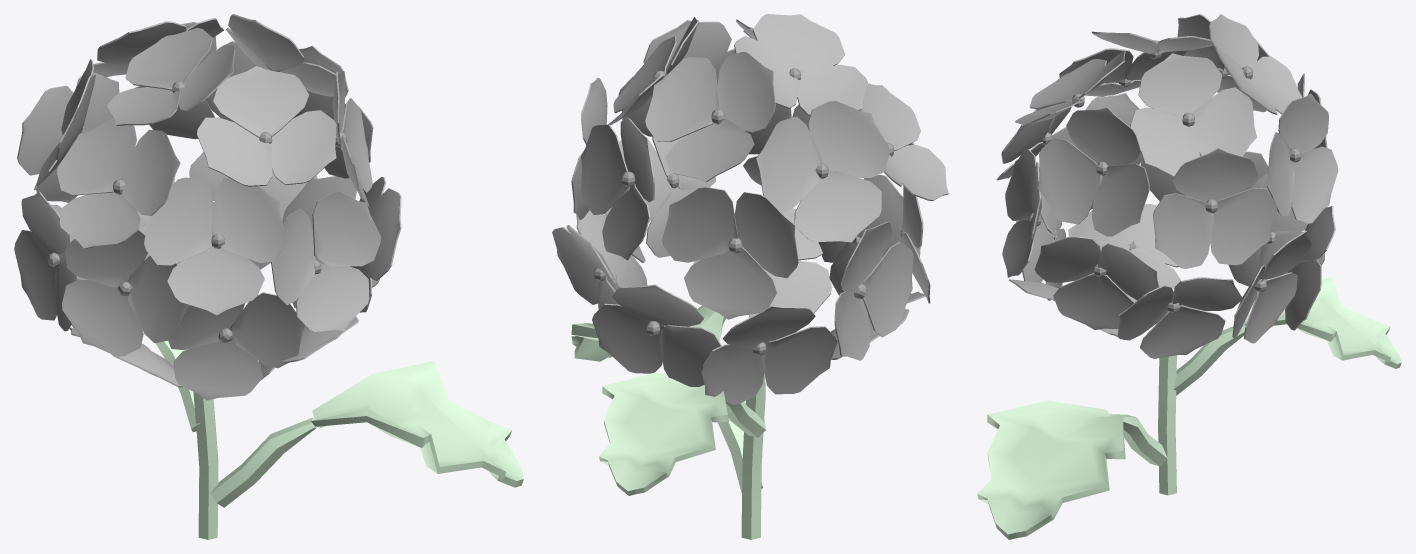
Rendered from flower_blue_v01.fbx.
3 renders of one model, left to right at view 1: azimuth 30°, elevation 25°; view 2: azimuth 150°, elevation 25°; view 3: azimuth 270°, elevation 25°, orthographic. The views are drawn at different scales.
Parts seen in each view (by area): view 1: petals_grp_petal_geo, stem_grp1_stem_geo, stempel_grp_stempel_geo; view 2: petals_grp_petal_geo, stem_grp1_stem_geo, stempel_grp_stempel_geo; view 3: petals_grp_petal_geo, stem_grp1_stem_geo, stempel_grp_stempel_geo.
Part boxes in pixels (x1,y1,x2,y2): petals_grp_petal_geo: [14, 14, 401, 400]; stem_grp1_stem_geo: [155, 340, 523, 539]; stempel_grp_stempel_geo: [48, 68, 346, 344]; petals_grp_petal_geo: [552, 14, 948, 404]; stem_grp1_stem_geo: [571, 305, 765, 539]; stempel_grp_stempel_geo: [594, 68, 903, 355]; petals_grp_petal_geo: [996, 14, 1338, 358]; stem_grp1_stem_geo: [977, 277, 1401, 539]; stempel_grp_stempel_geo: [1029, 51, 1301, 313].
Size of the model in its own units: 2.54 by 3 by 2.5.
